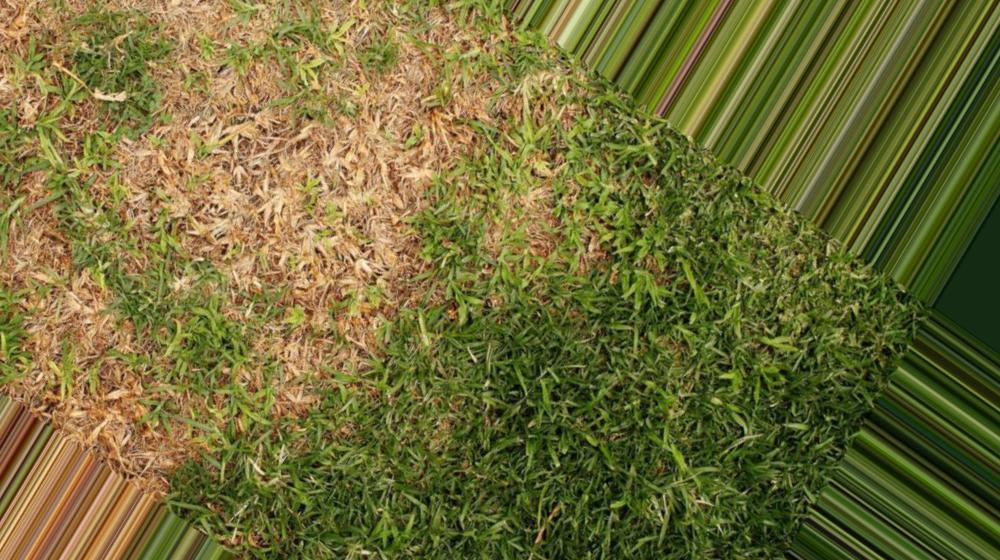patch: (30, 19, 259, 347), (265, 55, 384, 295), (412, 57, 447, 165)
